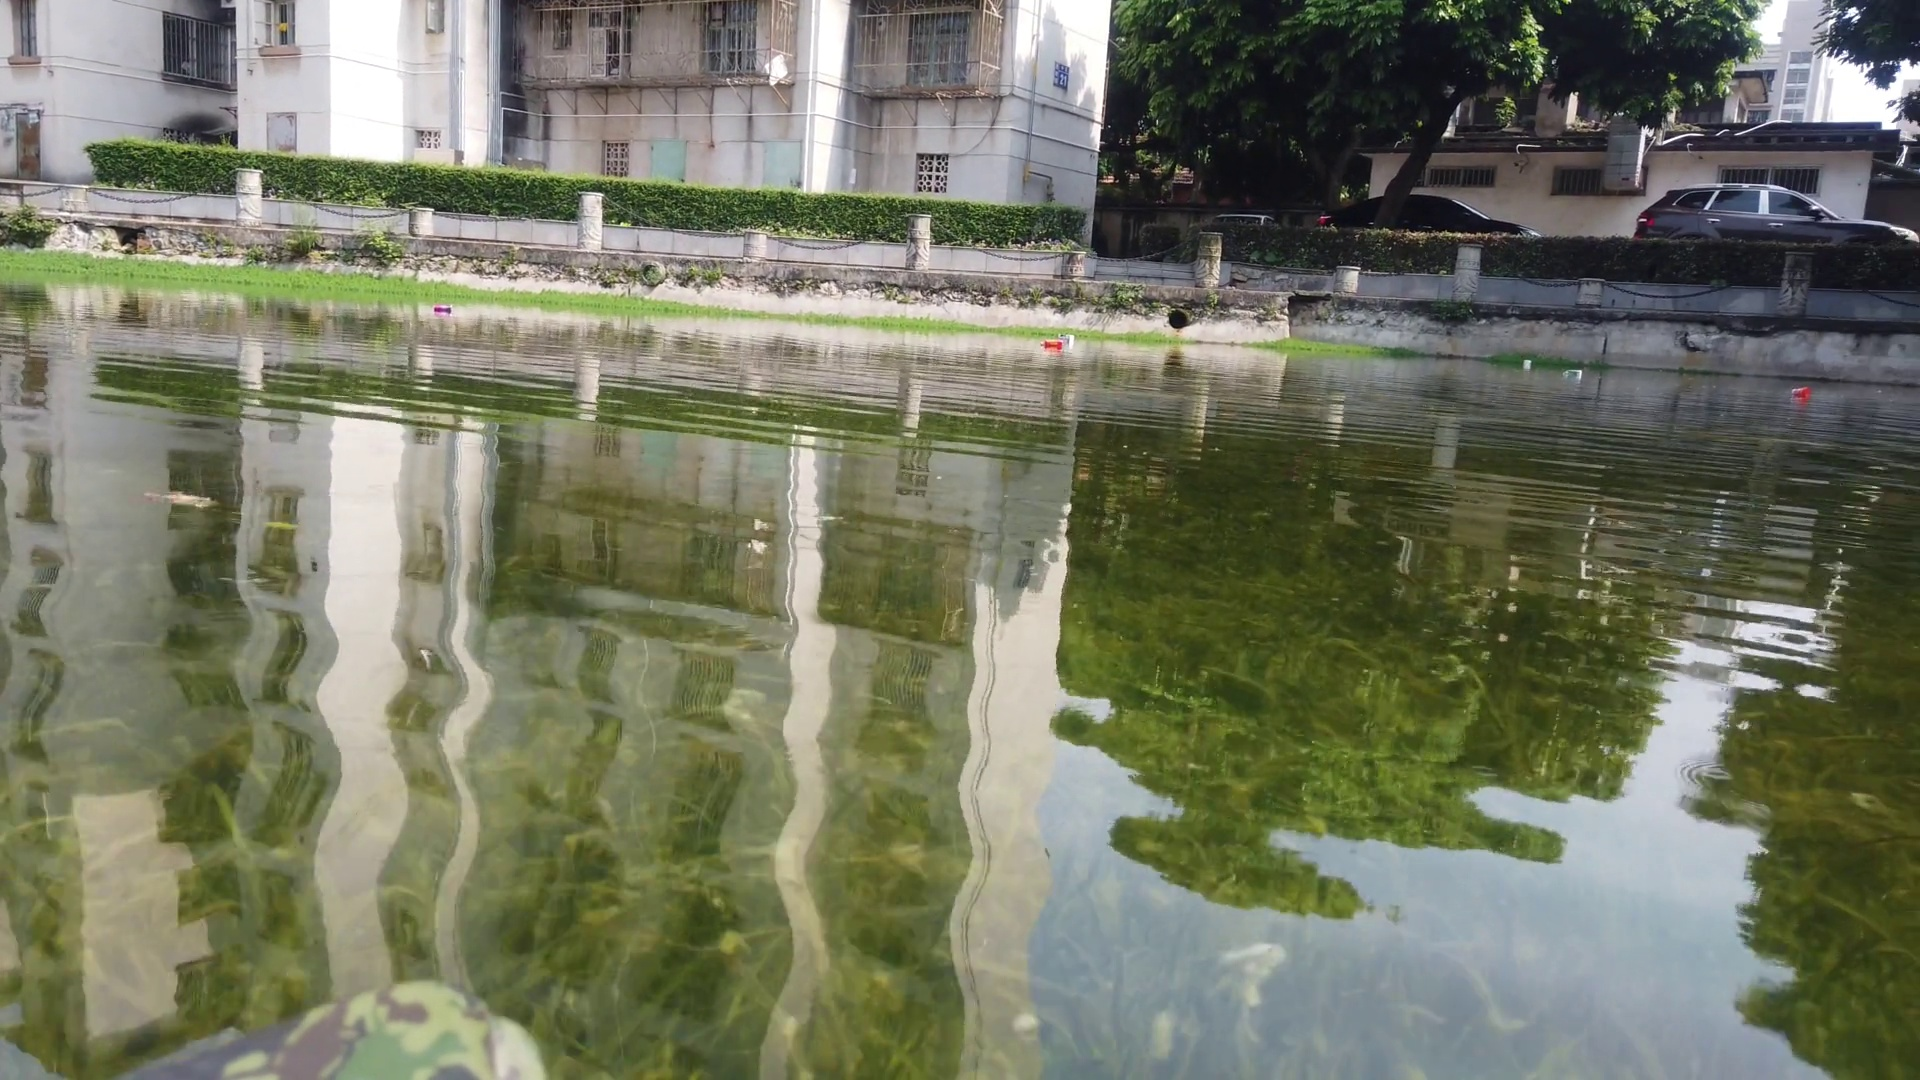bottle: (1789, 382, 1807, 397), (1040, 339, 1063, 348), (433, 305, 454, 314)
carton: (1563, 368, 1582, 378), (1058, 332, 1075, 343), (1523, 360, 1534, 369)
